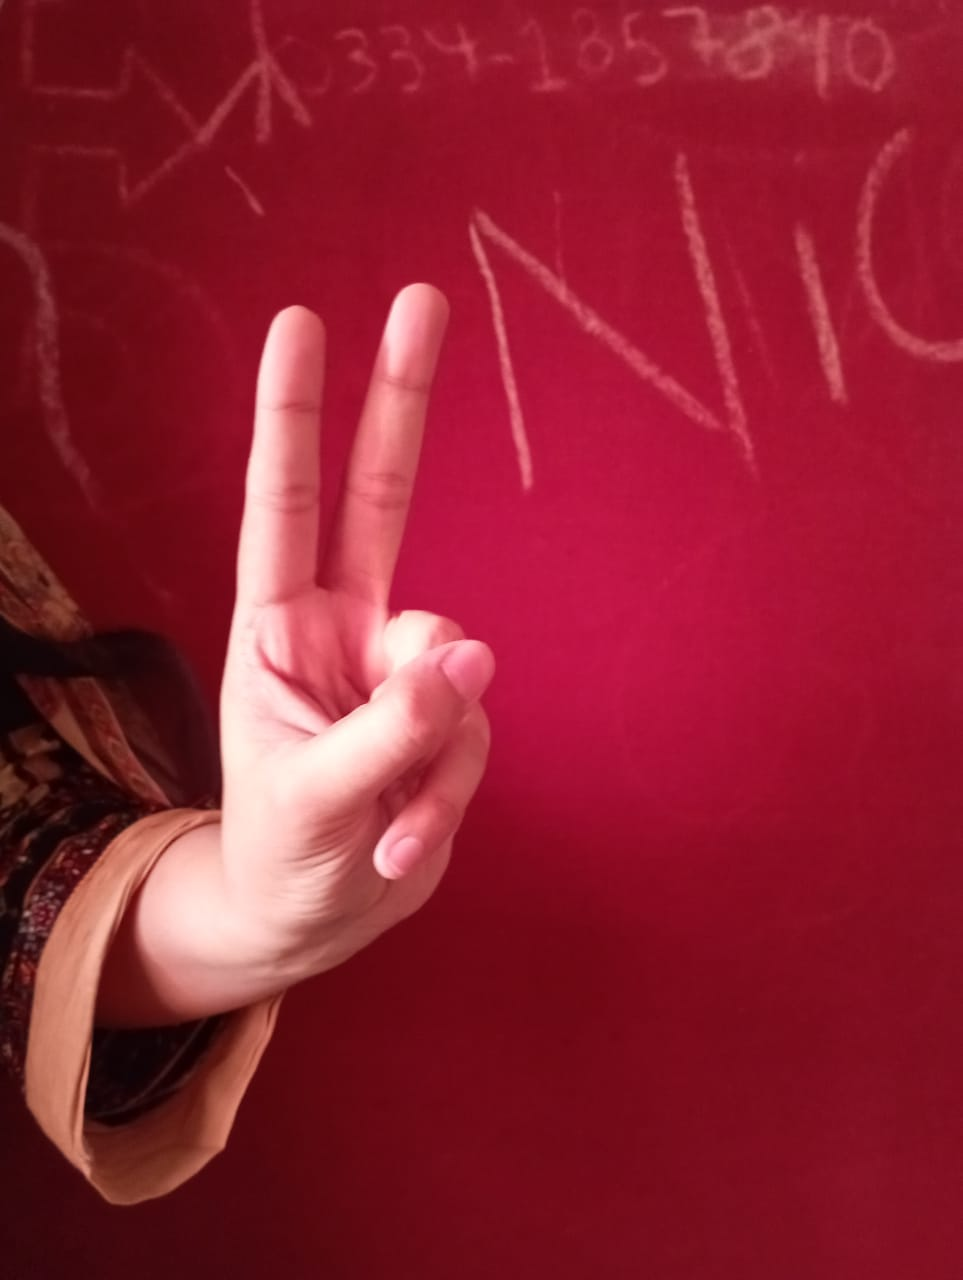Peace: (209, 266, 513, 996)
